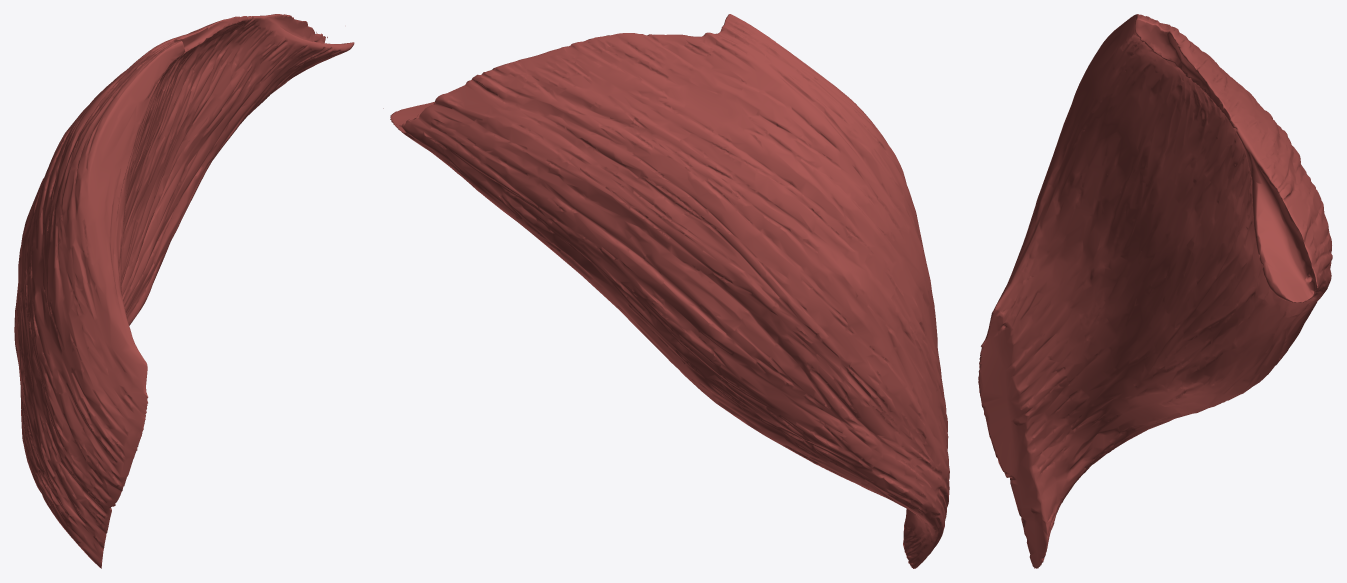
File: FMA34684.glb
3 renders of one model, left to right at view 1: azimuth 30°, elevation 25°; view 2: azimuth 150°, elevation 25°; view 3: azimuth 270°, elevation 25°, orthographic. The views are drawn at different scales.
Visible parts, largest first — view 1: FMA34684; view 2: FMA34684; view 3: FMA34684.
Part boxes in pixels (box(x1,y1,x2,y2)): FMA34684: box(14, 14, 354, 568); FMA34684: box(383, 14, 949, 568); FMA34684: box(978, 14, 1332, 568).
Size of the model in its own units: 0.1324 by 0.1515 by 0.0775.
